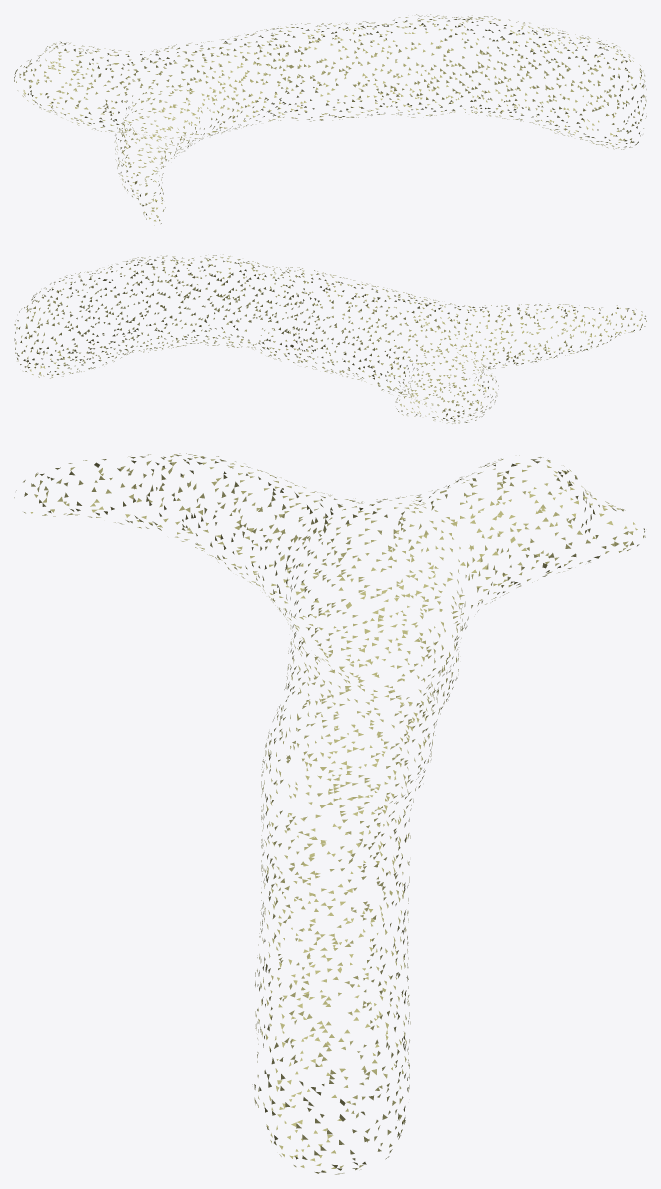
The model's file is morph_009.glb.
3 renders of one model, top to bottom at view 1: azimuth 30°, elevation 25°; view 2: azimuth 150°, elevation 25°; view 3: azimuth 270°, elevation 25°, orthographic. The views are drawn at different scales.
Bounding box in the file's own units: 136 × 41.55 × 75.27.
